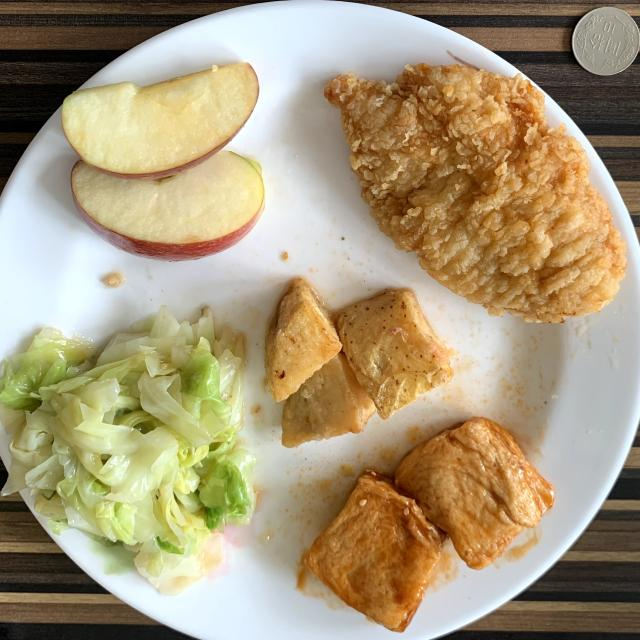apple -sliced-: (62, 62, 264, 260)
cabbage: (0, 308, 255, 591)
coin: (571, 6, 640, 76)
creamy tofu: (305, 418, 554, 631)
fried chicken cutlet: (325, 64, 626, 322)
fried potato: (265, 278, 452, 448)
